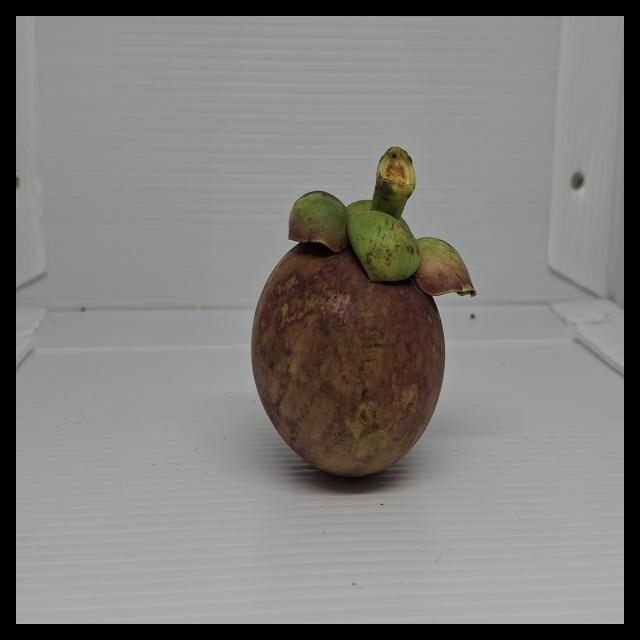mangosteen: (230, 125, 489, 509)
